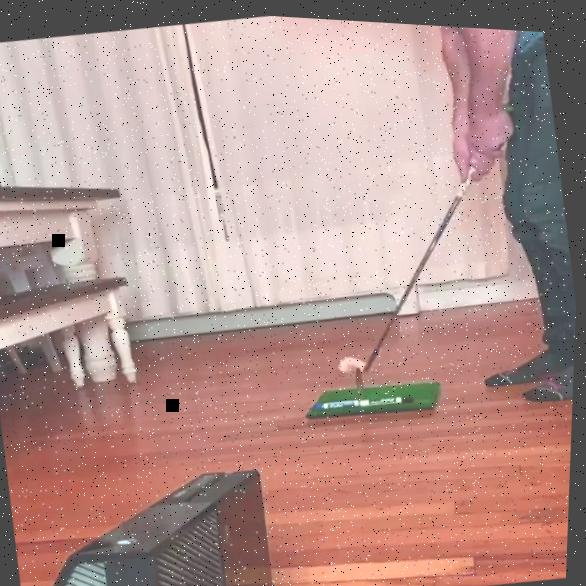ClubHead: (340, 351, 367, 372)
